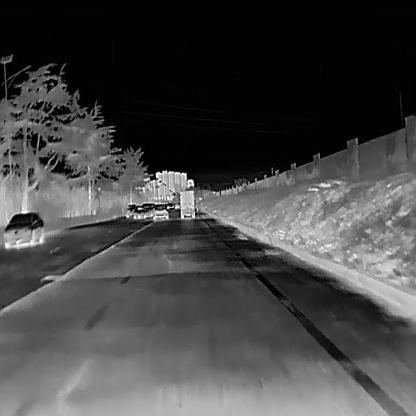car: (2, 210, 43, 247), (178, 189, 196, 218), (152, 203, 168, 219), (141, 201, 153, 217), (133, 205, 146, 219), (125, 203, 136, 217)
